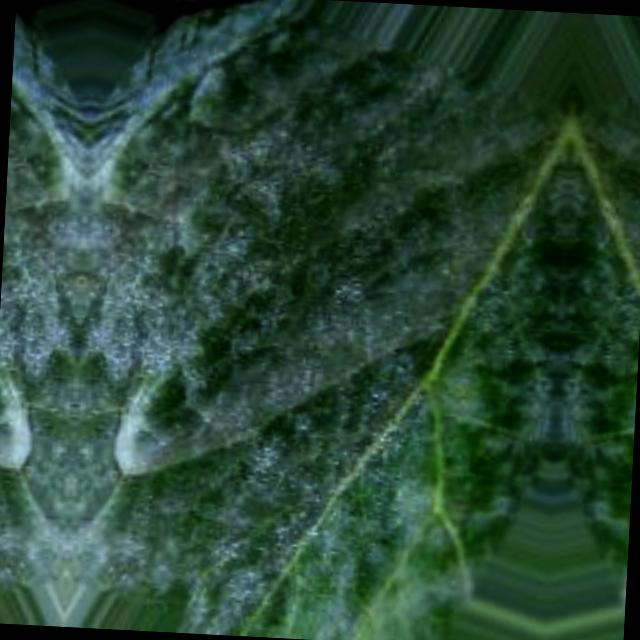Powdery_mildew: (75, 59, 570, 404), (69, 384, 487, 562), (0, 55, 92, 379), (557, 85, 640, 409), (0, 380, 73, 540), (616, 413, 636, 569)
